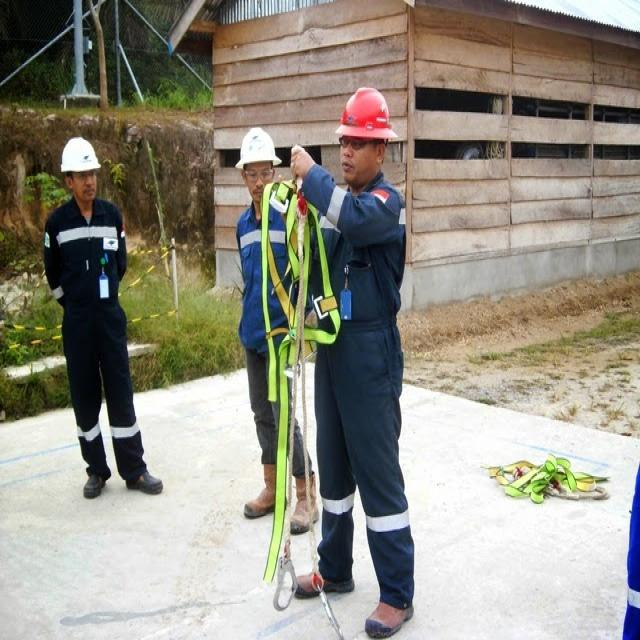shoes: (287, 562, 356, 602), (239, 460, 281, 522), (293, 470, 320, 536), (121, 459, 165, 498), (361, 606, 417, 634), (81, 463, 109, 507)
